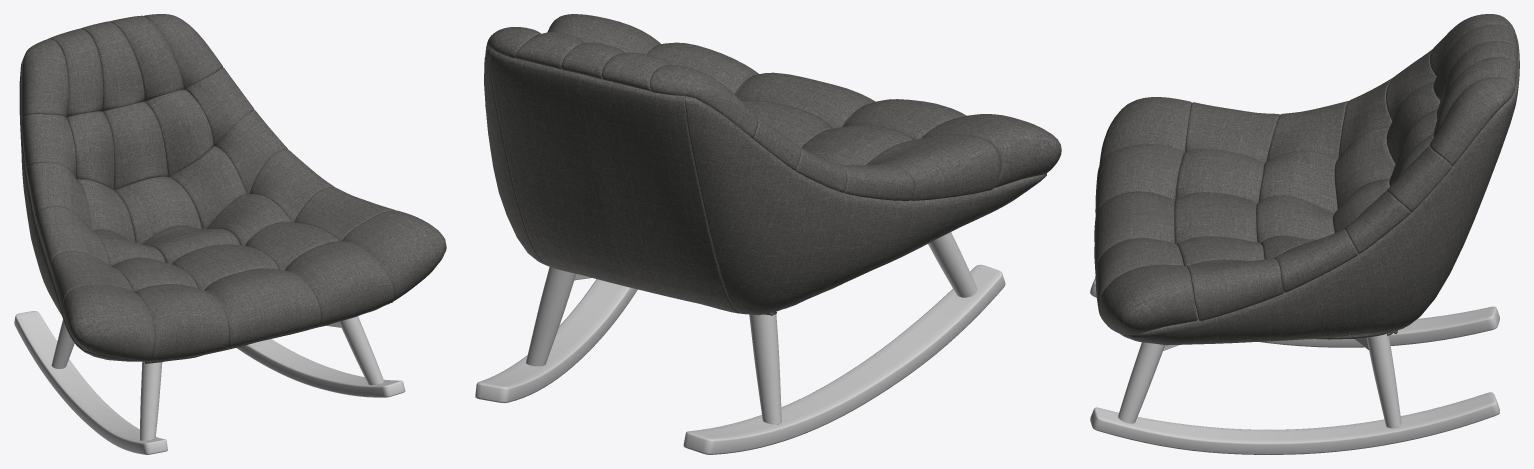
The model's file is rockingChair.gltf.
3 renders of one model, left to right at view 1: azimuth 30°, elevation 25°; view 2: azimuth 150°, elevation 25°; view 3: azimuth 270°, elevation 25°, orthographic. The views are drawn at different scales.
Parts seen in each view (by area): view 1: Kolton_Rocking_Chair; view 2: Kolton_Rocking_Chair; view 3: Kolton_Rocking_Chair.
Part boxes in pixels (left/top/right/bottom): Kolton_Rocking_Chair: left=14, top=14, right=446, bottom=454; Kolton_Rocking_Chair: left=475, top=14, right=1061, bottom=454; Kolton_Rocking_Chair: left=1090, top=14, right=1519, bottom=454.
Size of what is drawn, in the model's own units: 1.02 by 0.7928 by 0.8896.
